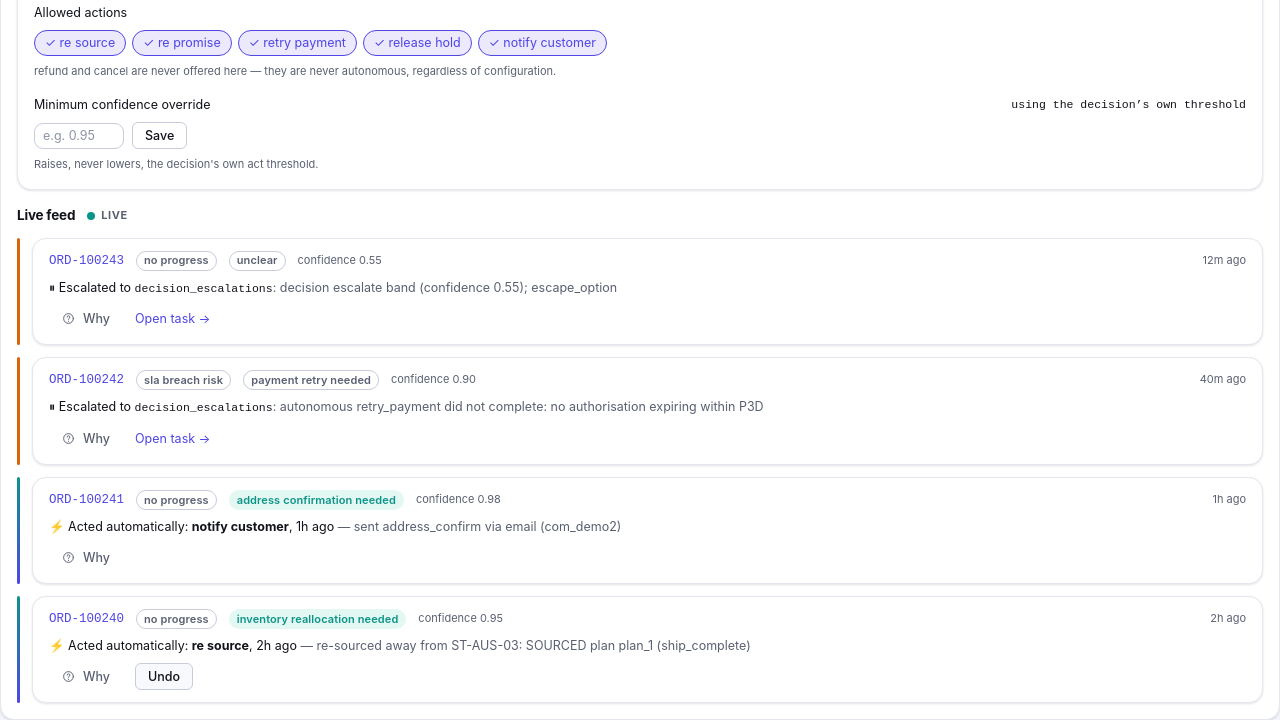
Test: Agentic Control Tower › shows an Undo button on an executed, undoable action and clicking it reverses it
(page scrolled)
Click the button "Undo" at x=164, y=677, box [135,663,193,690]
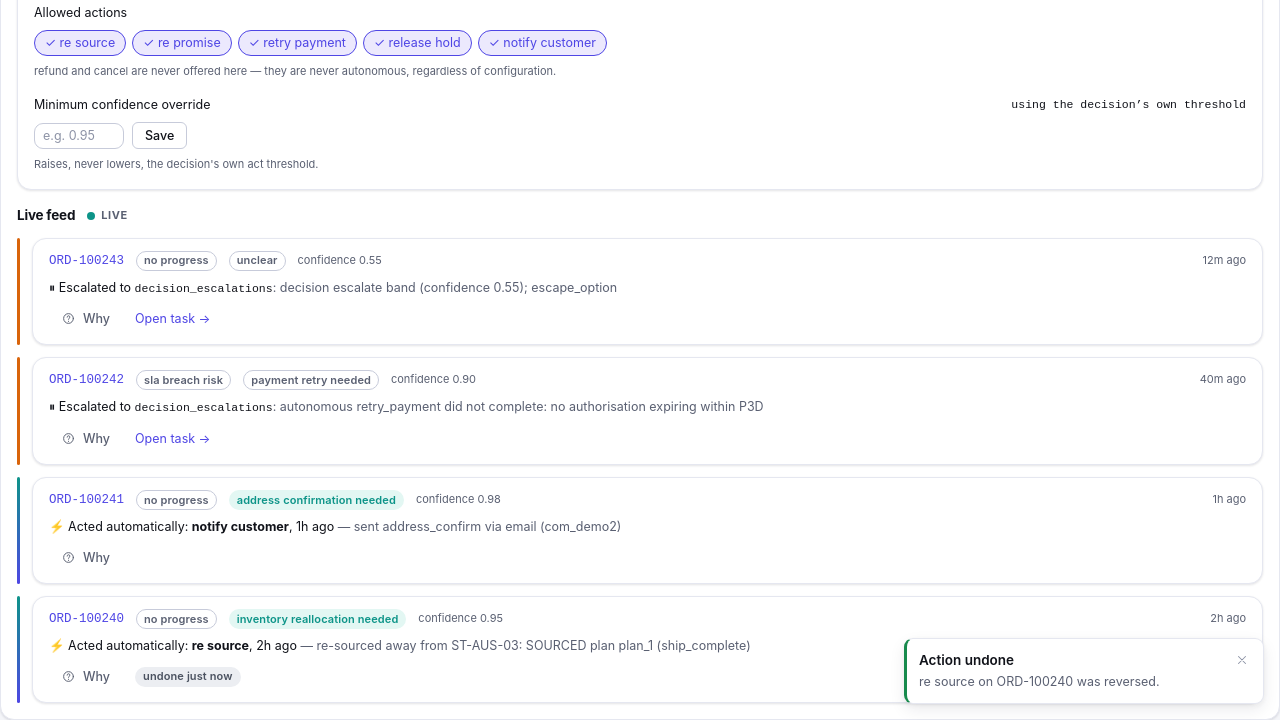
Expected: the text "undone just now" is shown, [135,667,241,687]
